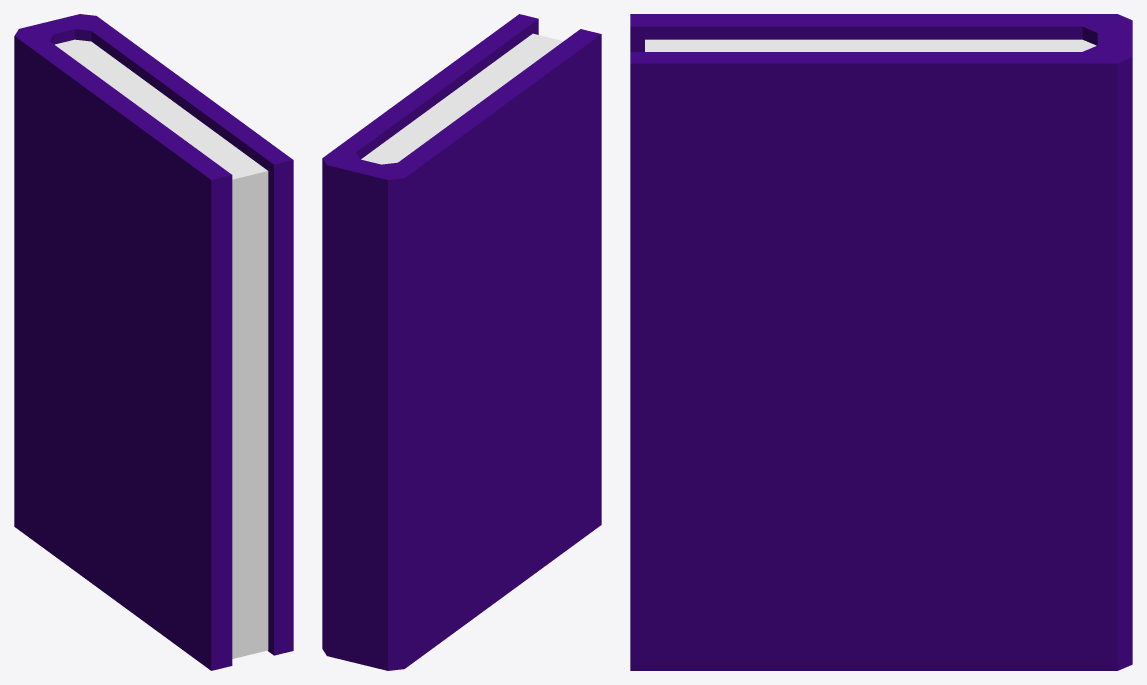
File: Libro09.fbx
3 views of the same model, side by side, from view 1: azimuth 30°, elevation 25°; view 2: azimuth 150°, elevation 25°; view 3: azimuth 270°, elevation 25° (orthographic). The views are drawn at different scales.
Visible parts, largest first — view 1: Libro09; view 2: Libro09; view 3: Libro09.
Boxes of the visible parts, x1=… form: Libro09: x1=14, y1=14, x2=293, y2=670; Libro09: x1=322, y1=14, x2=601, y2=670; Libro09: x1=630, y1=14, x2=1132, y2=670.
Size of the model in its own units: 3.28 by 18.76 by 14.05.
